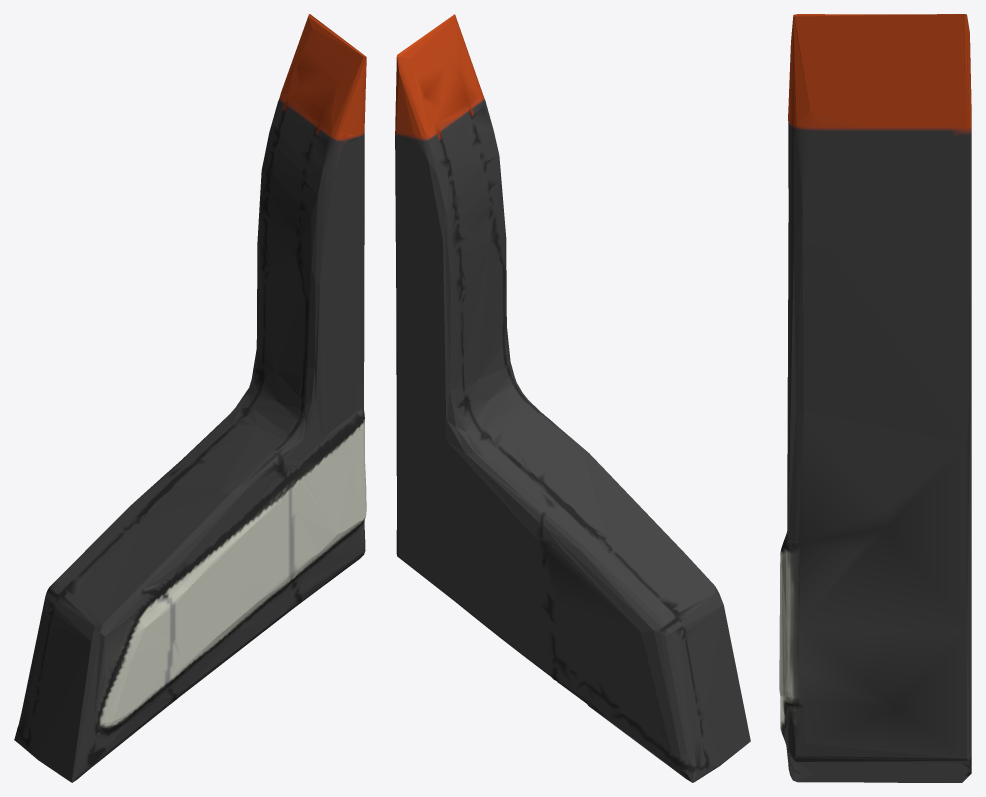
File: Ala.glb
3 views of the same model, side by side, from view 1: azimuth 30°, elevation 25°; view 2: azimuth 150°, elevation 25°; view 3: azimuth 270°, elevation 25° (orthographic). The views are drawn at different scales.
Visible parts, largest first — view 1: Ala; view 2: Ala; view 3: Ala.
Part boxes in pixels (bbox=[...]): Ala: bbox=[14, 14, 366, 782]; Ala: bbox=[395, 14, 750, 782]; Ala: bbox=[779, 14, 971, 782].
Bounding box in the file's own units: 1.09 × 2.3 × 0.4081.
